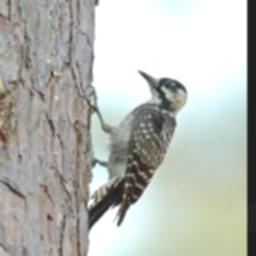Woodpecker: (77, 69, 191, 235)
